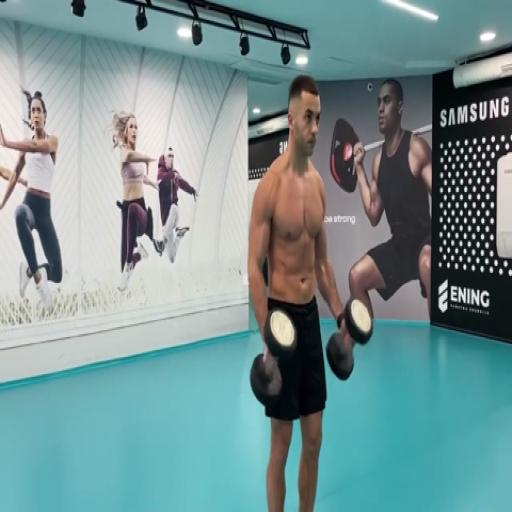exercise: (245, 72, 350, 510), (325, 76, 434, 382), (0, 86, 66, 316), (108, 108, 164, 294), (152, 144, 200, 267)
